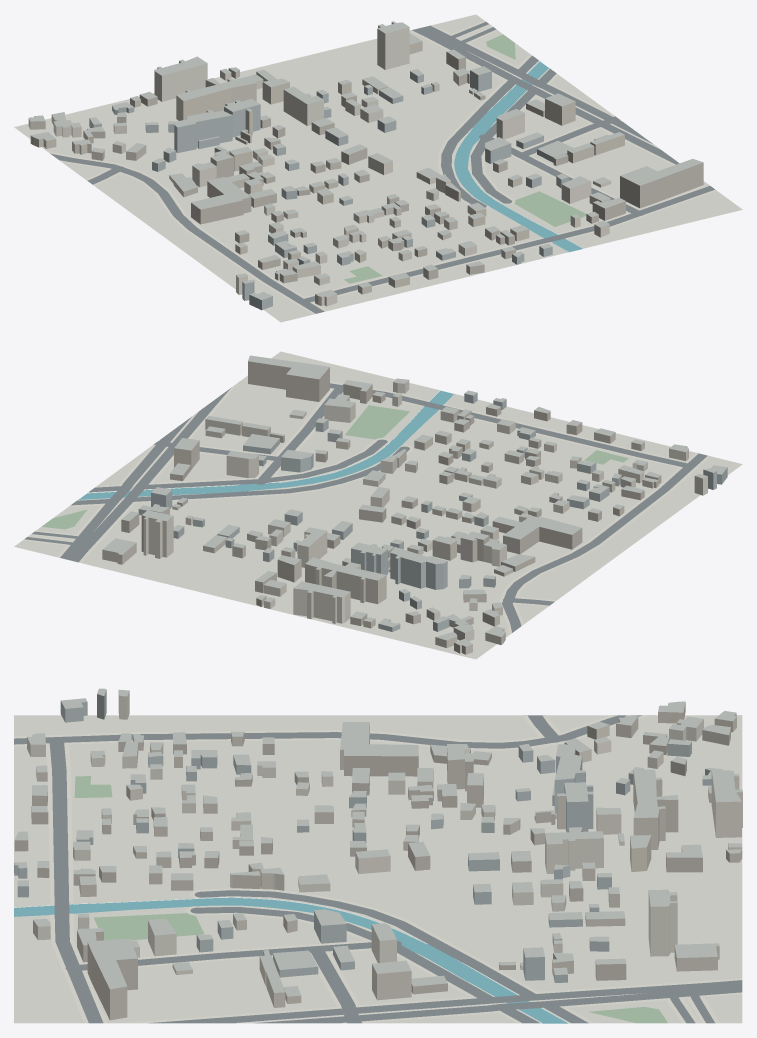
3 views of the same model, one above another, from view 1: azimuth 30°, elevation 25°; view 2: azimuth 150°, elevation 25°; view 3: azimuth 270°, elevation 25° (orthographic). The views are drawn at different scales.
Parts seen in each view (by area): view 1: city; view 2: city; view 3: city.
Part boxes in pixels (x1=…): city: x1=14, y1=14, x2=742, y2=322; city: x1=14, y1=351, x2=742, y2=659; city: x1=14, y1=688, x2=742, y2=1023.
Bounding box in the file's own units: 506 × 37.88 × 500.
